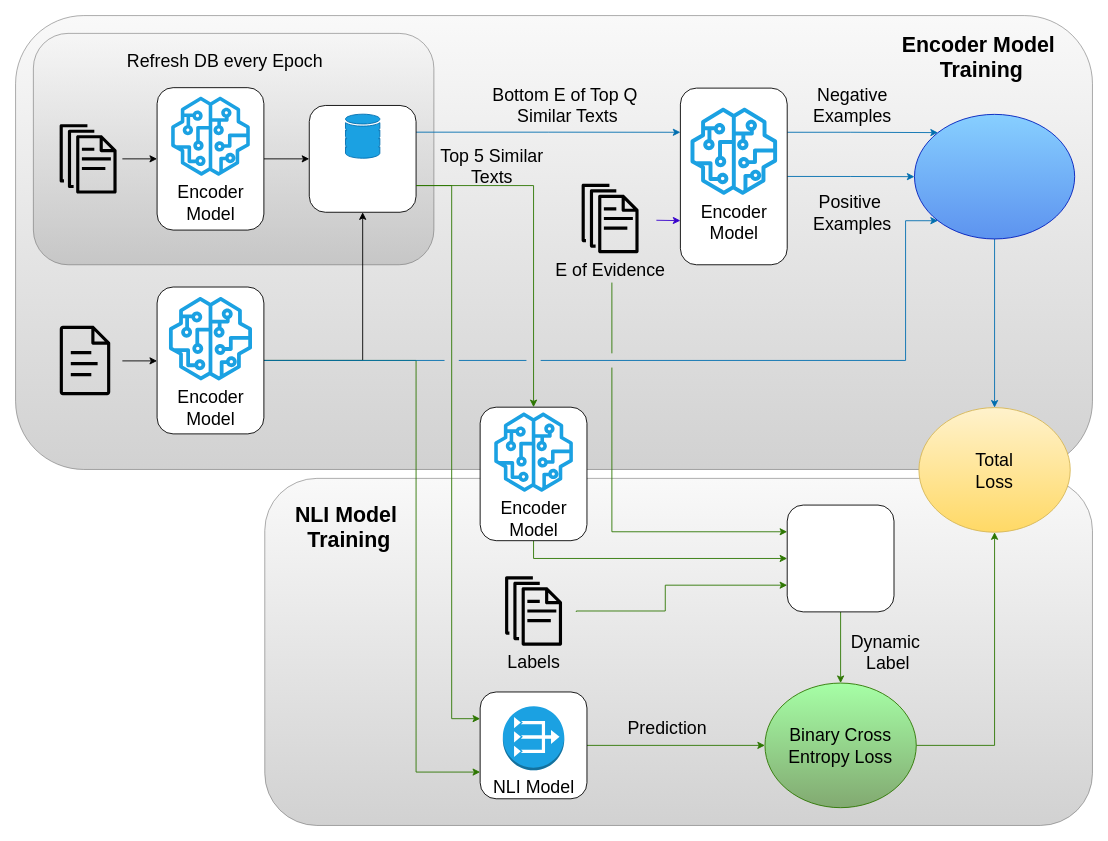
The diagram is 1108 pixels wide and 841 high, and some of its shapes have lost their labels. The shapes that lost their labels are listed below. From the top down, each one's box as (x1, y1, x2, y2) in pixels, then its label:
(345, 113, 380, 158): Vector Database
(59, 123, 117, 194): Ground Truth
(914, 113, 1075, 239): Cosine Embedding Loss
(59, 325, 110, 395): Claim
(786, 504, 894, 612): Dynamic Label Adapter
